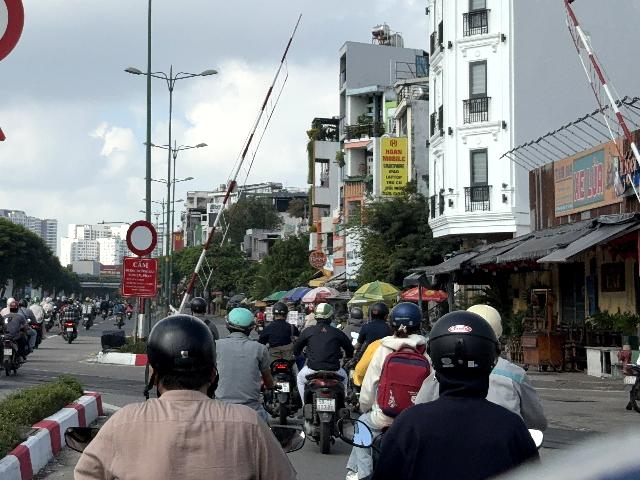duong-cam: (127, 221, 158, 256)
